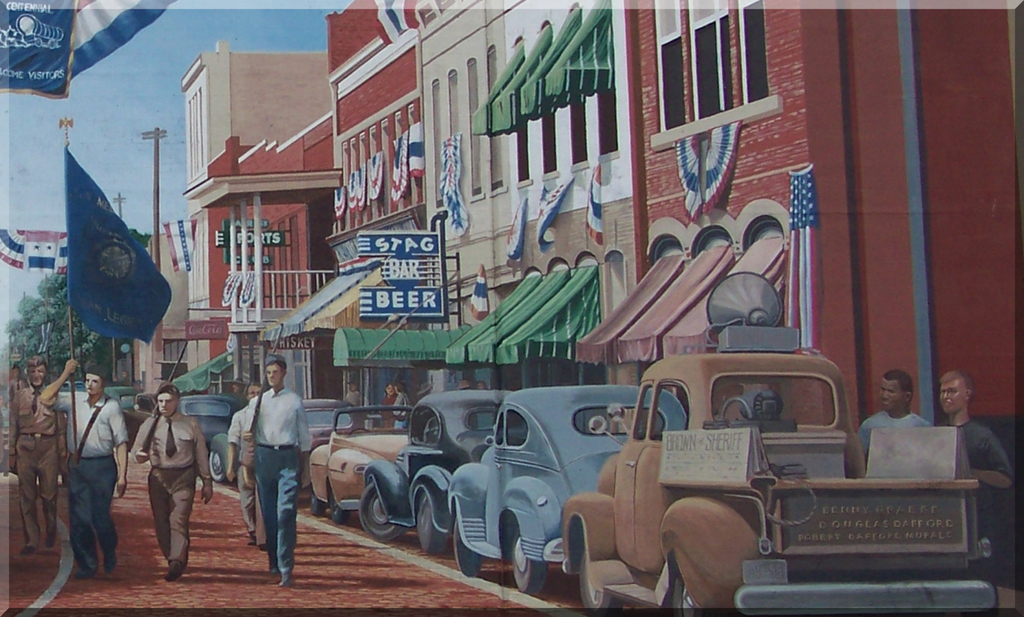Car: (51, 379, 689, 597)
